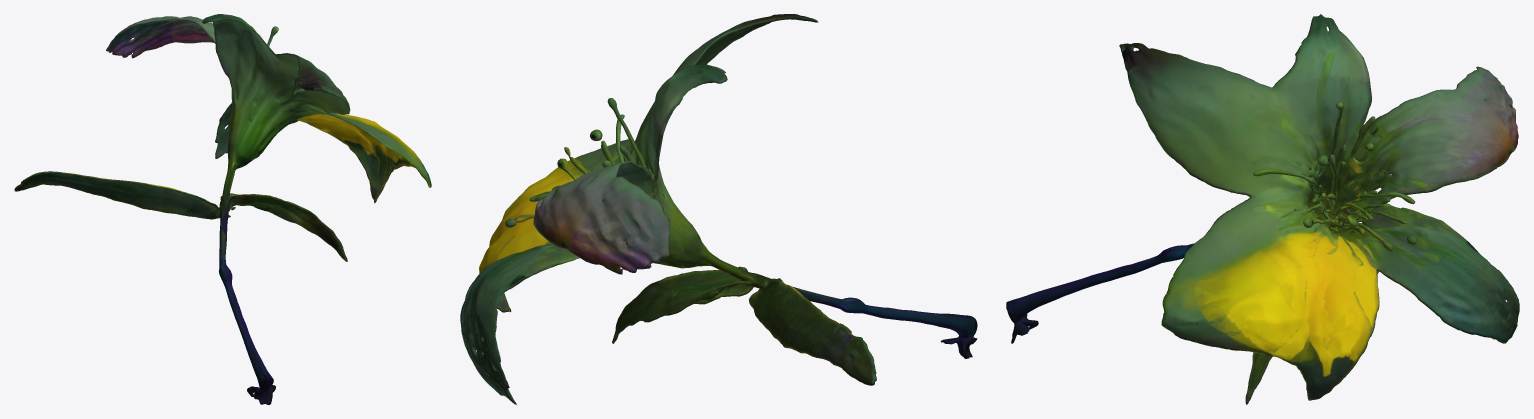
The model's file is herb0087_dup.gltf.
The picture shows the model from 3 angles, left to right: view 1: azimuth 30°, elevation 25°; view 2: azimuth 150°, elevation 25°; view 3: azimuth 270°, elevation 25°; orthographic projection. The views are drawn at different scales.
Visible parts, largest first — view 1: Mesh_0.028; view 2: Mesh_0.028; view 3: Mesh_0.028.
Part boxes in pixels (bbox=[...]): Mesh_0.028: bbox=[14, 14, 431, 404]; Mesh_0.028: bbox=[460, 14, 977, 404]; Mesh_0.028: bbox=[1006, 14, 1519, 404].
Size of the model in its own units: 1.94 by 1.57 by 1.99.
1 material, 1 textured.
